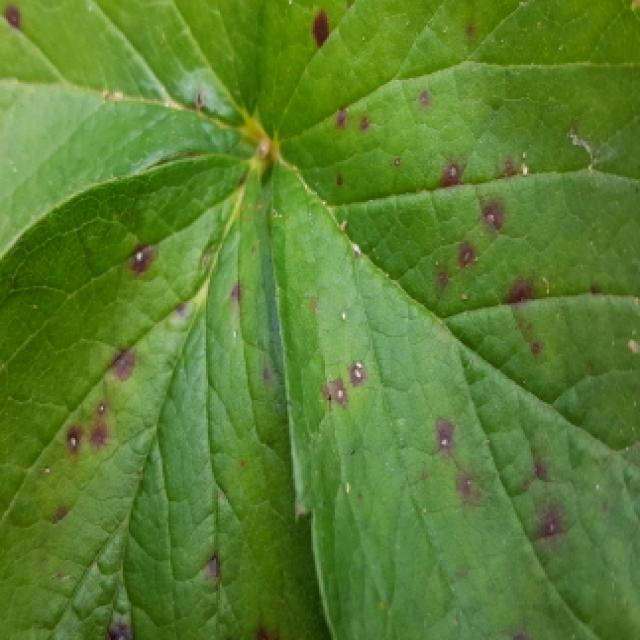Leaf Spot: (259, 0, 640, 640), (0, 157, 332, 640)
